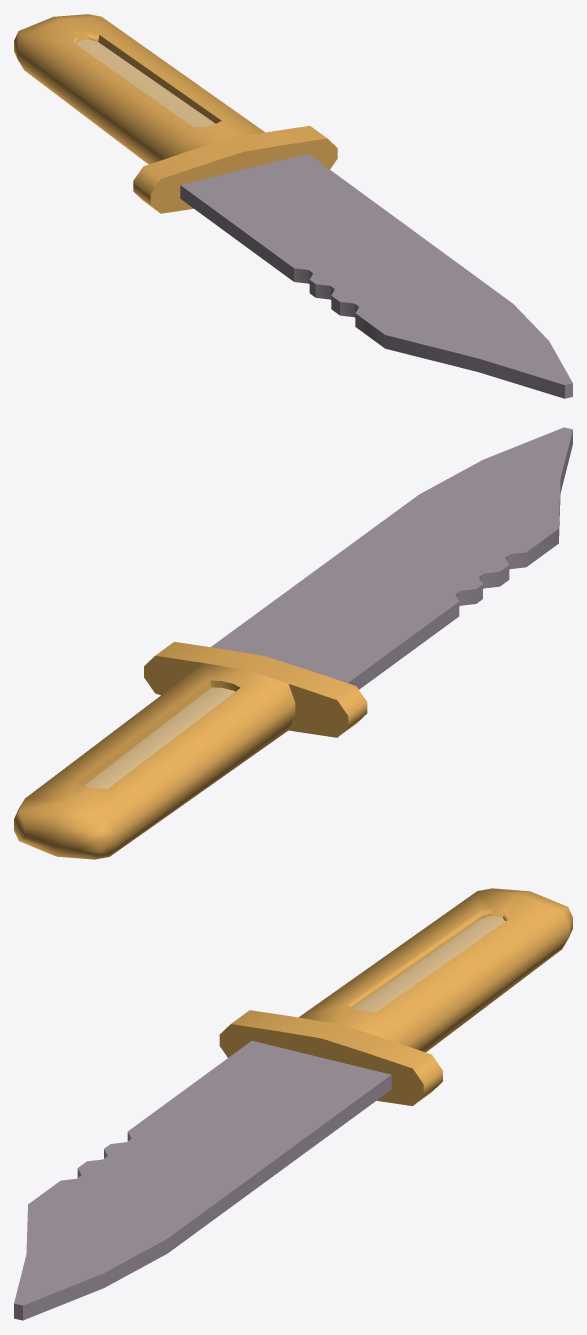
File: Knife.fbx
3 renders of one model, top to bottom at view 1: azimuth 30°, elevation 25°; view 2: azimuth 150°, elevation 25°; view 3: azimuth 330°, elevation 25°, orthographic. The views are drawn at different scales.
Parts seen in each view (by area): view 1: Knife; view 2: Knife; view 3: Knife.
Boxes of the visible parts, x1,y1,x2,y2 form: Knife: [14, 14, 572, 398]; Knife: [14, 427, 572, 859]; Knife: [14, 888, 572, 1320].
Bounding box in the file's own units: 2.12 × 0.5504 × 9.73.
